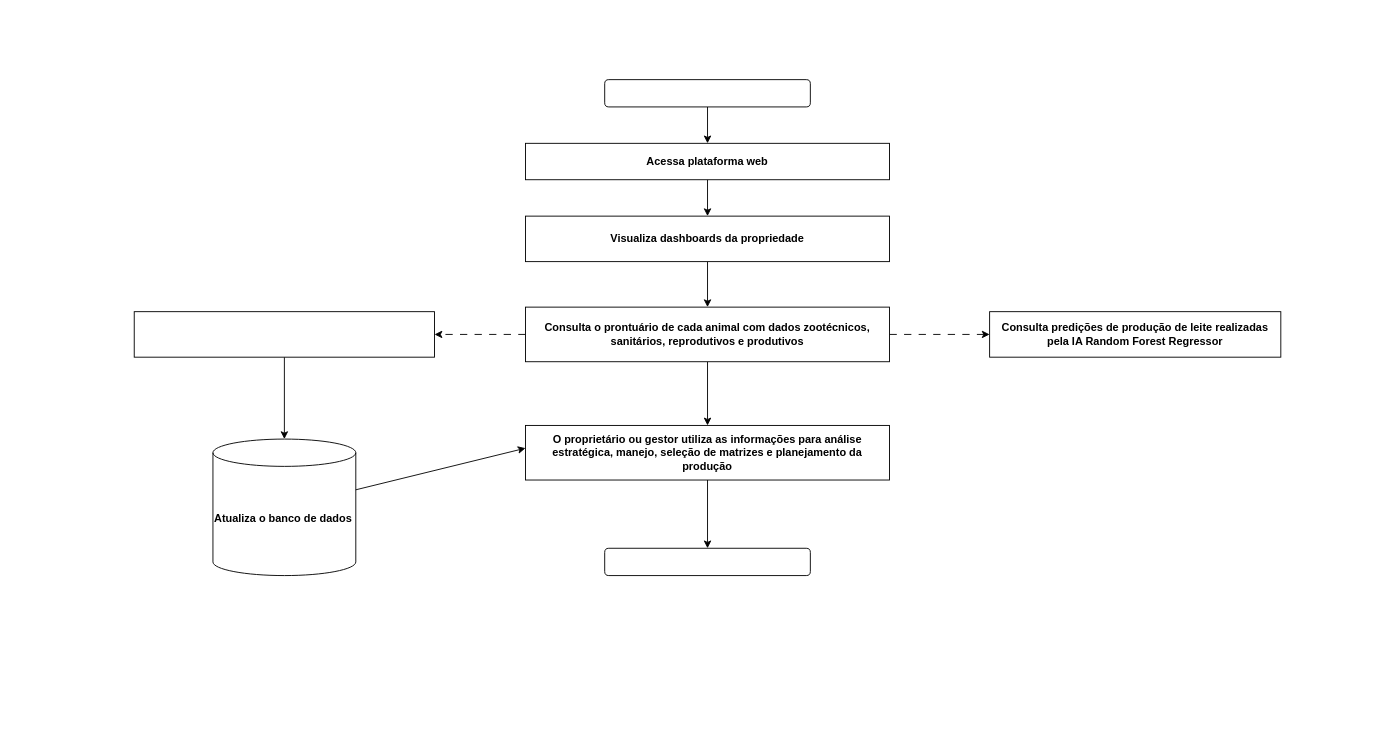
Some shapes in this 1396 by 741 pixel diagram are drawn without their labels. Here are the shapes that lost their labels. From the top down, the box of each, then its label:
(604, 79, 810, 107): Início
(133, 311, 435, 357): Caso identifique a necessidade de atualizar ou inserir dados-chave
(604, 547, 810, 576): Fim
